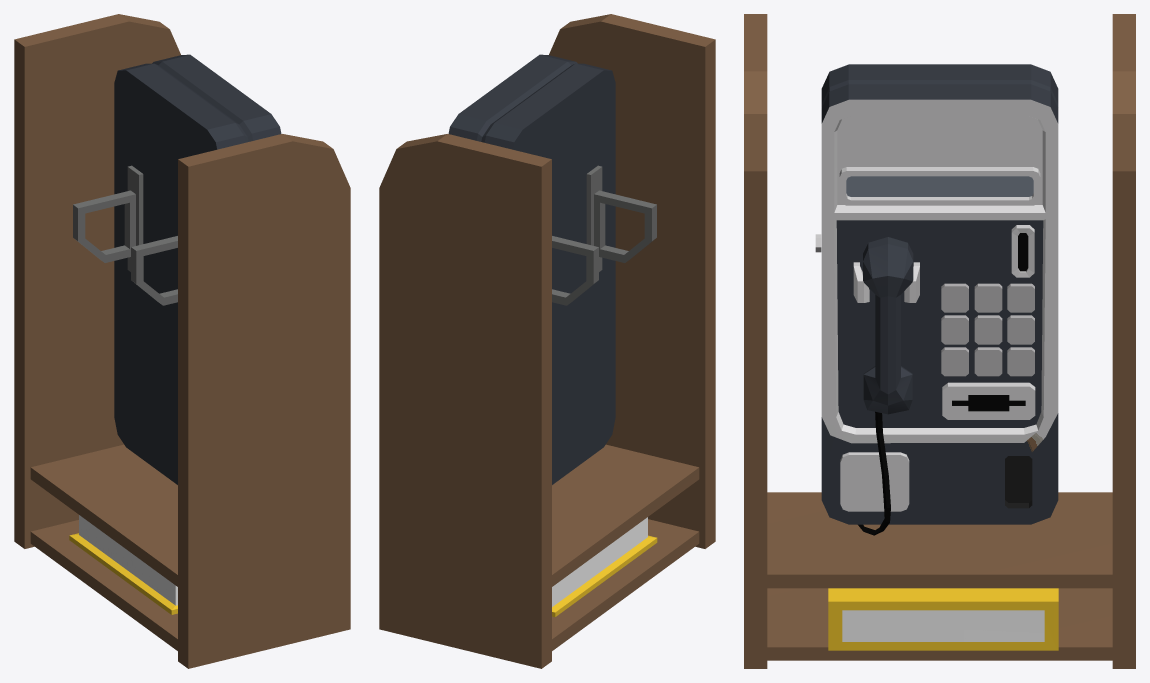
Rendered from SM_Telephone_02.glb.
3 views of the same model, side by side, from view 1: azimuth 30°, elevation 25°; view 2: azimuth 150°, elevation 25°; view 3: azimuth 270°, elevation 25° (orthographic). The views are drawn at different scales.
Visible parts, largest first — view 1: SM_Telephone_02; view 2: SM_Telephone_02; view 3: SM_Telephone_02.
Part boxes in pixels (<box>): SM_Telephone_02: <box>14,14,350,668</box>; SM_Telephone_02: <box>379,14,715,668</box>; SM_Telephone_02: <box>744,14,1135,668</box>.
Bounding box in the file's own units: 0.44 × 1.22 × 0.7675.
1 material, 1 textured.
